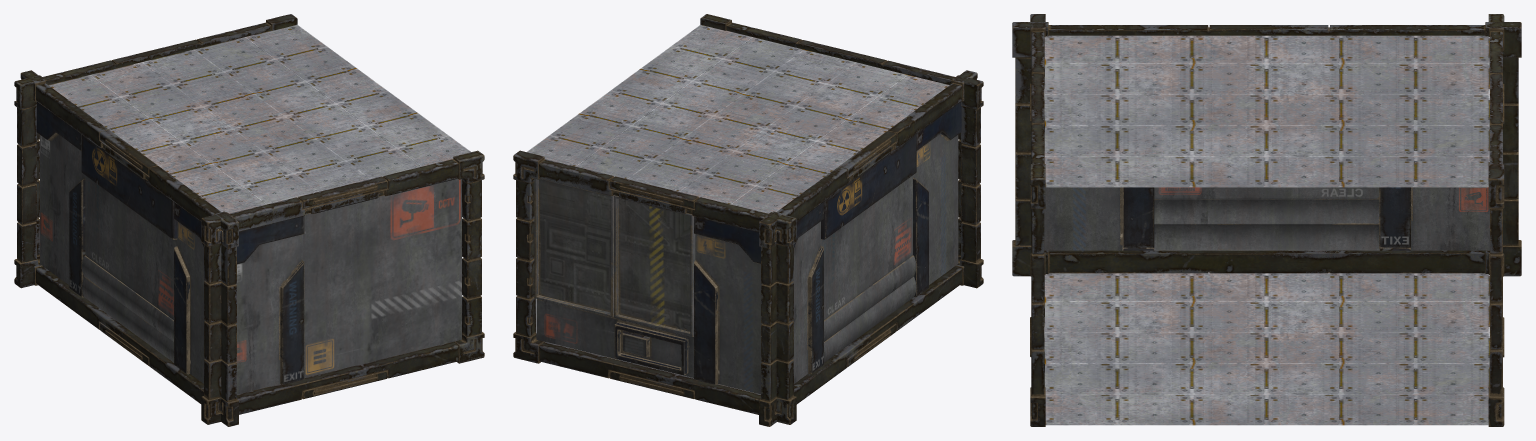
Rendered from SM_Smaller_Windowless_Unit.fbx.
3 views of the same model, side by side, from view 1: azimuth 30°, elevation 25°; view 2: azimuth 150°, elevation 25°; view 3: azimuth 270°, elevation 25° (orthographic). The views are drawn at different scales.
Parts seen in each view (by area): view 1: SM_Smaller_Windowless_Unit_LOD0; view 2: SM_Smaller_Windowless_Unit_LOD0; view 3: SM_Smaller_Windowless_Unit_LOD0.
Boxes of the visible parts, left/top/right/bottom form: SM_Smaller_Windowless_Unit_LOD0: left=14, top=14, right=484, bottom=426; SM_Smaller_Windowless_Unit_LOD0: left=513, top=14, right=983, bottom=426; SM_Smaller_Windowless_Unit_LOD0: left=1012, top=14, right=1521, bottom=426.
Size of the model in its own units: 418 by 543 by 292.
Materials: 3 (3 with a texture image).
